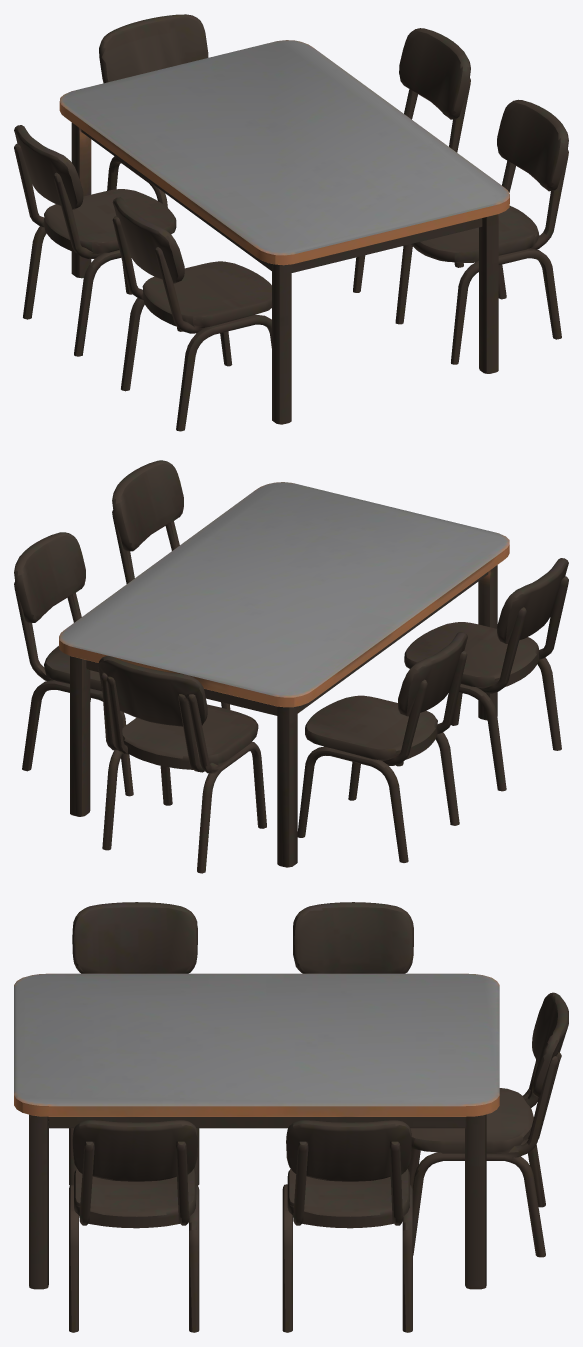
File: Inside__BreakRoomTable1.cluster.glb
3 renders of one model, top to bottom at view 1: azimuth 30°, elevation 25°; view 2: azimuth 150°, elevation 25°; view 3: azimuth 270°, elevation 25°, orthographic. The views are drawn at different scales.
Visible parts, largest first — view 1: BreakRoomTable1; view 2: BreakRoomTable1; view 3: BreakRoomTable1.
Part boxes in pixels (left/top/right/bottom): BreakRoomTable1: left=14, top=14, right=568, bottom=431; BreakRoomTable1: left=14, top=460, right=568, bottom=873; BreakRoomTable1: left=14, top=902, right=568, bottom=1332.
Bounding box in the file's own units: 1.83 × 0.8198 × 1.9.
Materials: 1 (1 with a texture image).
